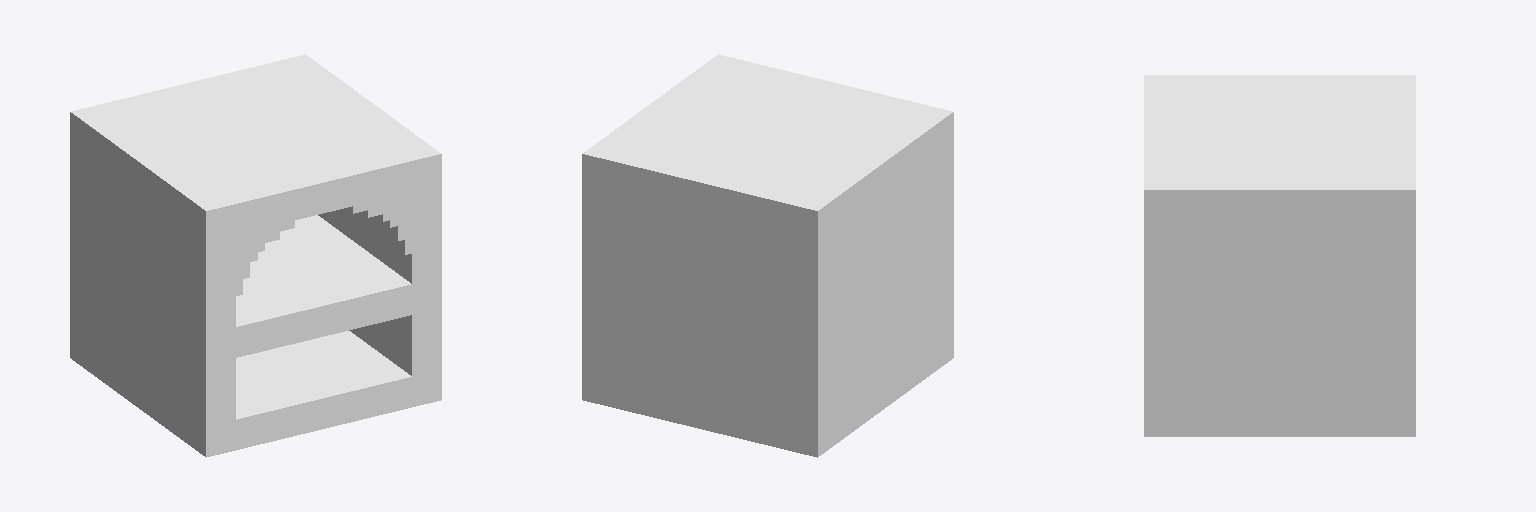
Rendered from furnace.obj.
3 views of the same model, side by side, from view 1: azimuth 30°, elevation 25°; view 2: azimuth 150°, elevation 25°; view 3: azimuth 270°, elevation 25° (orthographic).
Parts seen in each view (by area): view 1: object 1; view 2: object 1; view 3: object 1.
Boxes of the visible parts, <box> form: object 1: <box>70,54,441,457</box>; object 1: <box>582,54,953,457</box>; object 1: <box>1144,75,1415,436</box>.
Size of the model in its own units: 3.2 by 3.2 by 3.2.